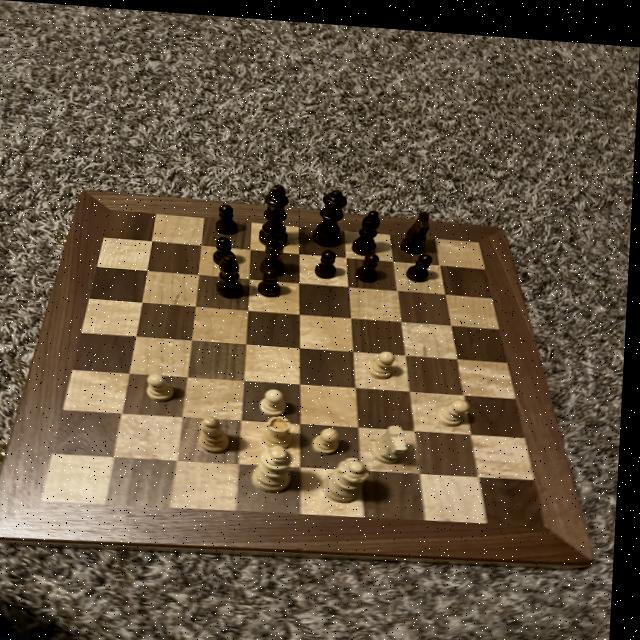bishop: (350, 200, 389, 252), (215, 249, 250, 299)
black-bishop: (260, 176, 297, 247)
black-king: (400, 202, 437, 250)
black-knight: (258, 260, 290, 296), (406, 245, 439, 278), (215, 197, 245, 233), (313, 242, 344, 275), (213, 229, 241, 265), (355, 247, 388, 277)
black-pawn: (312, 181, 352, 245)
black-queen: (258, 233, 293, 274)
black-rook: (197, 409, 236, 452)
white-bishop: (254, 439, 300, 491)
white-king: (373, 416, 418, 462)
white-knight: (310, 418, 352, 452), (440, 388, 476, 424), (259, 381, 295, 413), (148, 368, 180, 403), (370, 343, 402, 376)
white-pawn: (323, 448, 376, 500)
white-queen: (263, 408, 303, 452)
